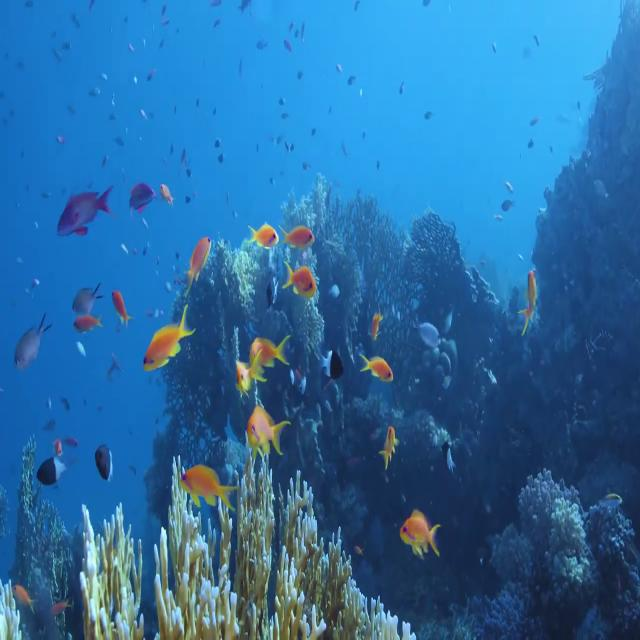fish: (172, 455, 240, 521), (139, 301, 197, 374), (54, 177, 117, 243), (397, 497, 447, 574), (248, 400, 290, 477), (12, 307, 52, 383), (357, 336, 397, 394), (32, 446, 73, 494), (228, 350, 266, 401), (515, 266, 543, 334), (183, 227, 214, 285), (248, 330, 294, 368), (68, 272, 104, 320), (124, 172, 157, 224), (248, 212, 284, 258), (316, 343, 346, 396), (90, 433, 119, 484), (375, 417, 401, 468), (109, 284, 133, 334), (154, 169, 180, 215), (281, 214, 315, 249)
